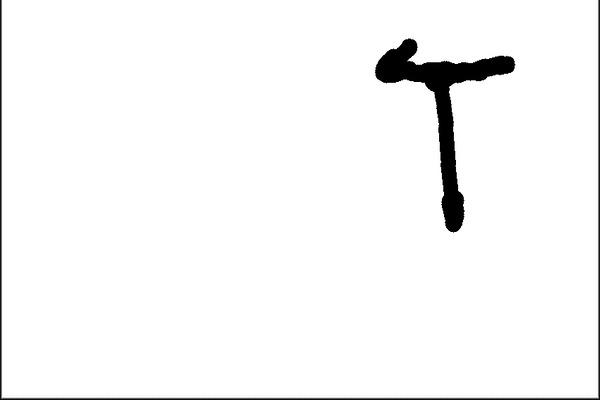T: (371, 31, 526, 235)
